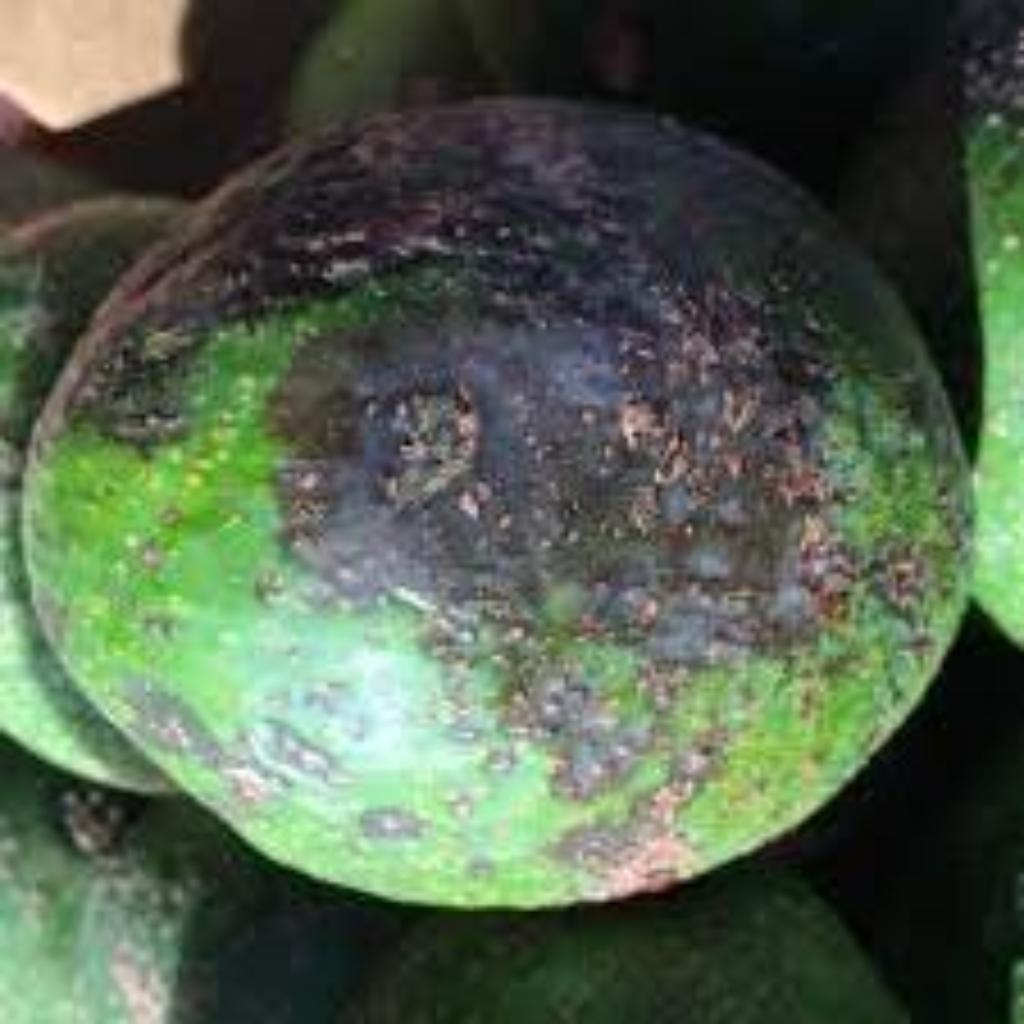antracnosis_fruto: (291, 294, 905, 726)
